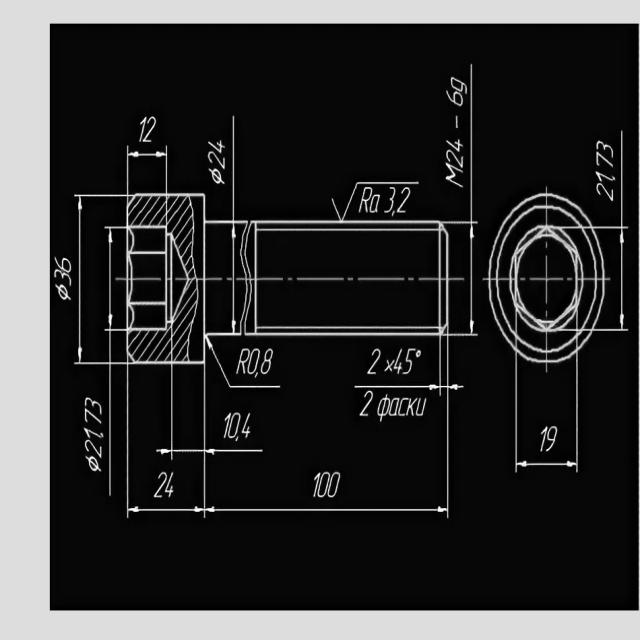marking_line: (202, 365, 453, 521), (127, 365, 208, 520), (155, 366, 263, 456), (513, 365, 579, 471), (73, 194, 108, 366), (201, 366, 265, 456), (353, 336, 442, 396), (155, 366, 203, 461), (206, 338, 283, 391), (451, 219, 479, 340), (103, 226, 126, 332), (125, 146, 169, 193), (445, 337, 466, 395), (230, 224, 239, 331)
numeric: (605, 130, 630, 332), (603, 224, 630, 334), (367, 344, 382, 376), (396, 186, 411, 215), (383, 185, 396, 217), (359, 390, 374, 417), (446, 148, 466, 167), (327, 471, 341, 498), (450, 74, 468, 95), (154, 470, 167, 499), (84, 439, 103, 458), (445, 89, 464, 108), (84, 397, 104, 415), (393, 346, 405, 376), (595, 183, 615, 201), (597, 139, 615, 159), (261, 348, 274, 375), (247, 347, 260, 374), (228, 412, 240, 441), (317, 469, 329, 498), (403, 347, 415, 376), (206, 150, 225, 168), (84, 409, 103, 427), (144, 114, 156, 142), (547, 425, 559, 453), (595, 153, 615, 169), (445, 136, 464, 152), (53, 270, 71, 286), (54, 257, 72, 273), (539, 422, 547, 455), (242, 410, 251, 439), (83, 428, 103, 441), (595, 171, 616, 183), (165, 471, 174, 498), (208, 139, 225, 153), (312, 471, 320, 498), (138, 116, 146, 141), (223, 411, 230, 438)
special_symbol: (332, 181, 420, 221), (207, 167, 225, 186), (55, 285, 72, 303), (84, 456, 101, 473), (384, 360, 394, 373), (416, 349, 422, 359)
